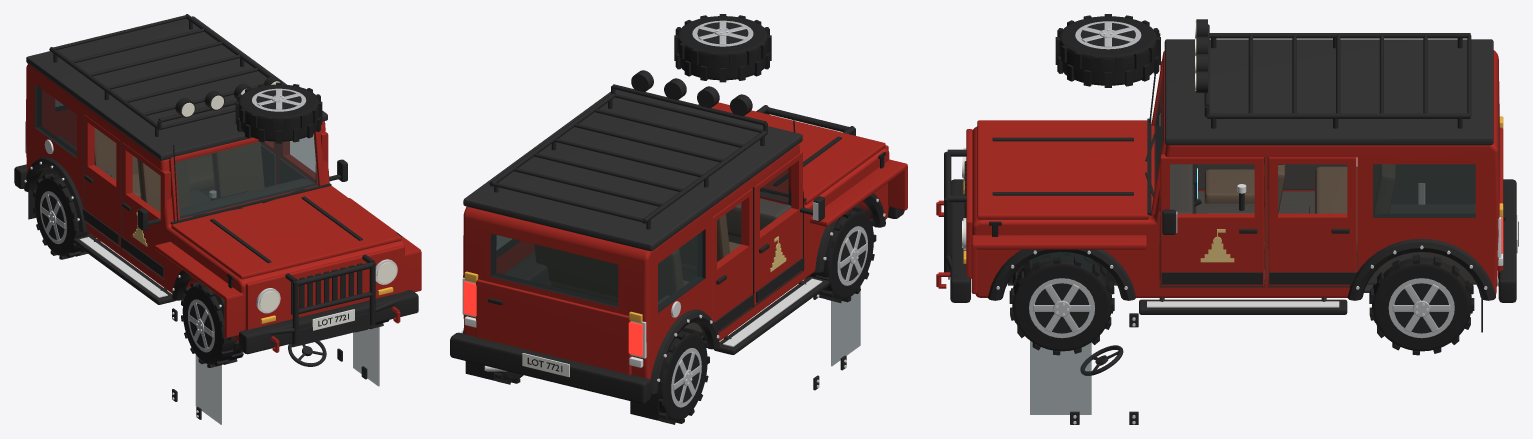
Rendered from Car_Model.fbx.
The picture shows the model from 3 angles, left to right: view 1: azimuth 30°, elevation 25°; view 2: azimuth 150°, elevation 25°; view 3: azimuth 270°, elevation 25°; orthographic projection. The views are drawn at different scales.
Visible parts, largest first — view 1: SM_Jeep_Hardtop, SM_Jeep_Hood, SM_Jeep_Body, SM_Jeep_Glass_Windshield, SM_Jeep_Grille, SM_Jeep_RoofRack, SM_Jeep_Wheel_Spare, SM_Jeep_Door_FL, SM_Jeep_Wheel_FL, SM_Jeep_BullBar, SM_Jeep_Door_RL, SM_Jeep_Fenders_Front (+20 smaller); view 2: SM_Jeep_Hardtop, SM_Jeep_Body, SM_Jeep_Door_Rear, SM_Jeep_RoofRack, SM_Jeep_Wheel_Spare, SM_Jeep_Glass_Rear, SM_Jeep_Door_FL, SM_Jeep_Hood, SM_Jeep_Bumper_Rear, SM_Jeep_Door_RL, SM_Jeep_Seat_Rear, SM_Jeep_Wheel_FL (+16 smaller); view 3: SM_Jeep_Hardtop, SM_Jeep_Body, SM_Jeep_Hood, SM_Jeep_Door_FR, SM_Jeep_Wheel_FR, SM_Jeep_Door_RR, SM_Jeep_Wheel_RR, SM_Jeep_Wheel_Spare, SM_Jeep_RoofRack, SM_Jeep_Glass_Quarter_R, SM_Jeep_Interior_Lining, SM_Jeep_ArchFlares_R (+17 smaller).
Part boxes in pixels (x1,y1,x2,y2): SM_Jeep_Hardtop: (26, 16, 327, 160); SM_Jeep_Hood: (171, 186, 401, 279); SM_Jeep_Body: (26, 64, 404, 341); SM_Jeep_Glass_Windshield: (175, 132, 318, 219); SM_Jeep_Grille: (245, 245, 404, 329); SM_Jeep_RoofRack: (49, 14, 283, 136); SM_Jeep_Wheel_Spare: (235, 82, 322, 143); SM_Jeep_Door_FL: (121, 142, 170, 278); SM_Jeep_Wheel_FL: (181, 282, 243, 367); SM_Jeep_BullBar: (251, 254, 409, 347); SM_Jeep_Door_RL: (83, 115, 120, 245); SM_Jeep_Fenders_Front: (155, 198, 421, 337); SM_Jeep_Hardtop: (463, 89, 802, 251); SM_Jeep_Body: (463, 144, 889, 379); SM_Jeep_Door_Rear: (476, 279, 631, 374); SM_Jeep_RoofRack: (489, 84, 767, 229); SM_Jeep_Wheel_Spare: (674, 14, 771, 82); SM_Jeep_Glass_Rear: (492, 234, 618, 306); SM_Jeep_Door_FL: (755, 151, 824, 304); SM_Jeep_Hood: (698, 102, 885, 204); SM_Jeep_Bumper_Rear: (450, 332, 650, 403); SM_Jeep_Door_RL: (712, 188, 754, 332); SM_Jeep_Seat_Rear: (534, 244, 688, 301); SM_Jeep_Wheel_FL: (804, 207, 876, 302); SM_Jeep_Hardtop: (1164, 39, 1493, 145); SM_Jeep_Body: (972, 50, 1499, 297); SM_Jeep_Hood: (977, 120, 1149, 219); SM_Jeep_Door_FR: (1160, 154, 1264, 286); SM_Jeep_Wheel_FR: (1009, 252, 1114, 355); SM_Jeep_Door_RR: (1268, 157, 1356, 286); SM_Jeep_Wheel_RR: (1369, 255, 1474, 355); SM_Jeep_Wheel_Spare: (1055, 14, 1160, 87); SM_Jeep_RoofRack: (1204, 24, 1471, 128); SM_Jeep_Glass_Quarter_R: (1373, 164, 1475, 216); SM_Jeep_Interior_Lining: (1197, 164, 1476, 284); SM_Jeep_ArchFlares_R: (987, 238, 1495, 300).
Bounding box in the file's own units: 2.25 × 3.01 × 4.54.
